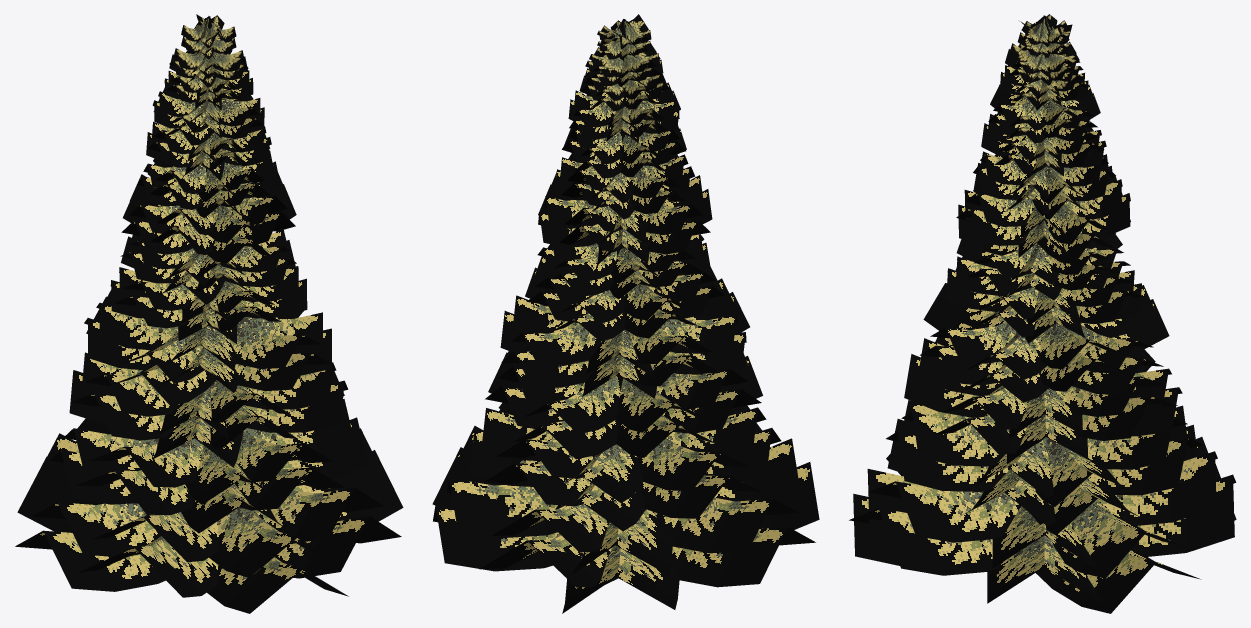
File: spikey_tree.glb
The picture shows the model from 3 angles, left to right: view 1: azimuth 30°, elevation 25°; view 2: azimuth 150°, elevation 25°; view 3: azimuth 270°, elevation 25°; orthographic projection.
Visible parts, largest first — view 1: spiky_tree; view 2: spiky_tree; view 3: spiky_tree.
Boxes of the visible parts, x1=… form: spiky_tree: x1=15, y1=14, x2=403, y2=613; spiky_tree: x1=432, y1=14, x2=819, y2=613; spiky_tree: x1=849, y1=14, x2=1236, y2=613.
Size of the model in its own units: 26.38 by 41.86 by 26.91.
Materials: 1 (1 with a texture image).
